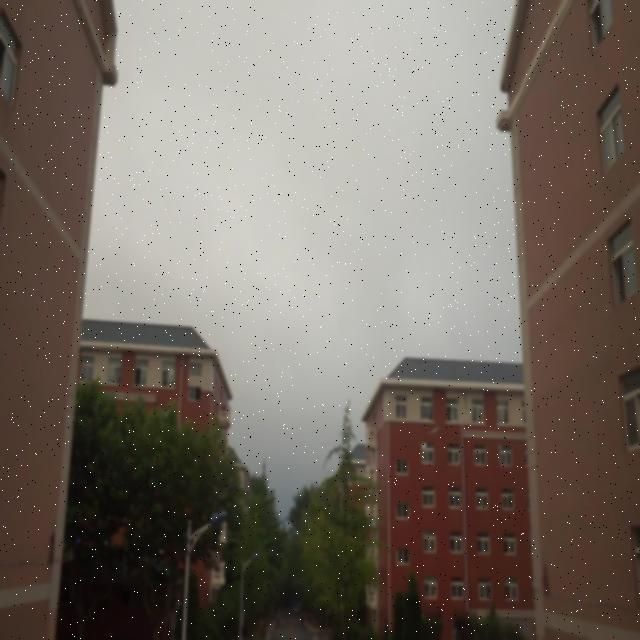UAV: (429, 427, 439, 437)
